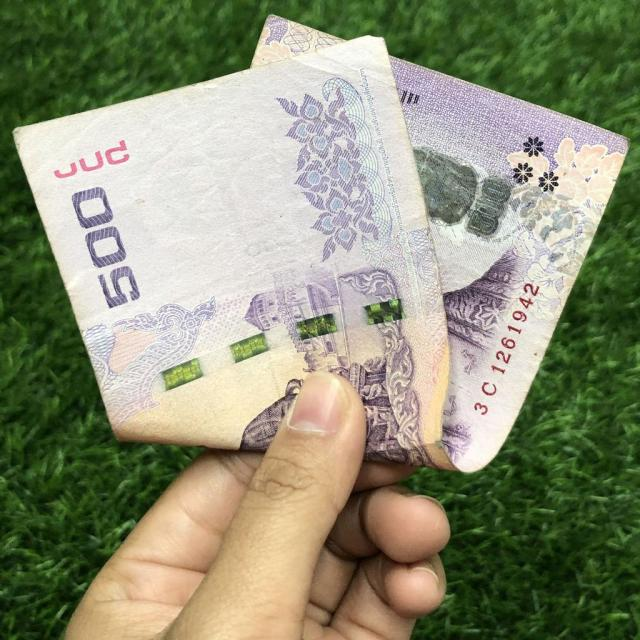THAI500: (13, 16, 628, 475)
